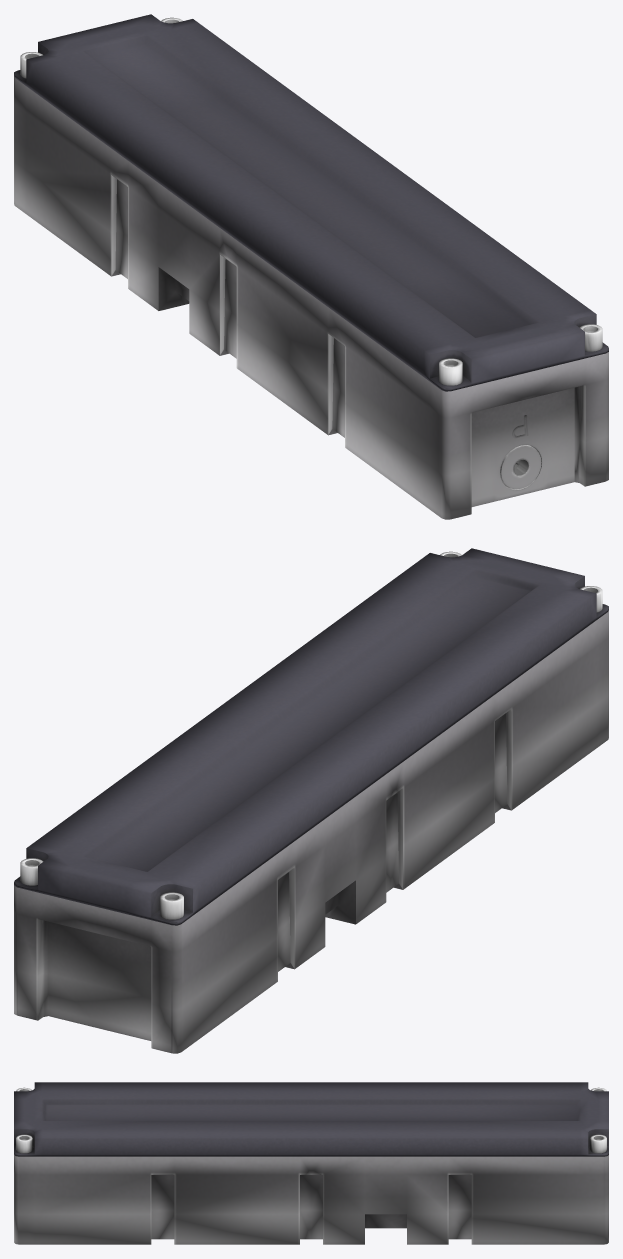
The model's file is SeaBat-F50.dae.
3 views of the same model, one above another, from view 1: azimuth 30°, elevation 25°; view 2: azimuth 150°, elevation 25°; view 3: azimuth 270°, elevation 25° (orthographic). The views are drawn at different scales.
Visible parts, largest first — view 1: Cube.002; view 2: Cube.002; view 3: Cube.002.
Part boxes in pixels (x1,y1,x2,y2): Cube.002: (14,14,608,519); Cube.002: (14,548,608,1053); Cube.002: (14,1082,608,1244).
Size of the model in its own units: 0.102 by 0.46 by 0.0907.
Materials: 1 (1 with a texture image).
